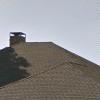Chimney: (8, 23, 45, 61)
